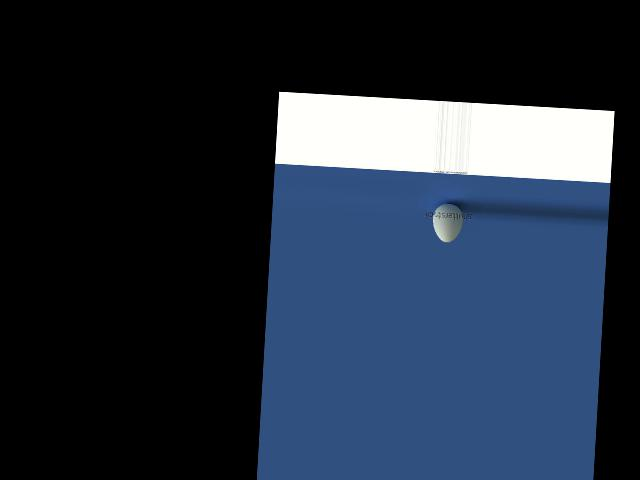egg: (431, 202, 463, 243)
